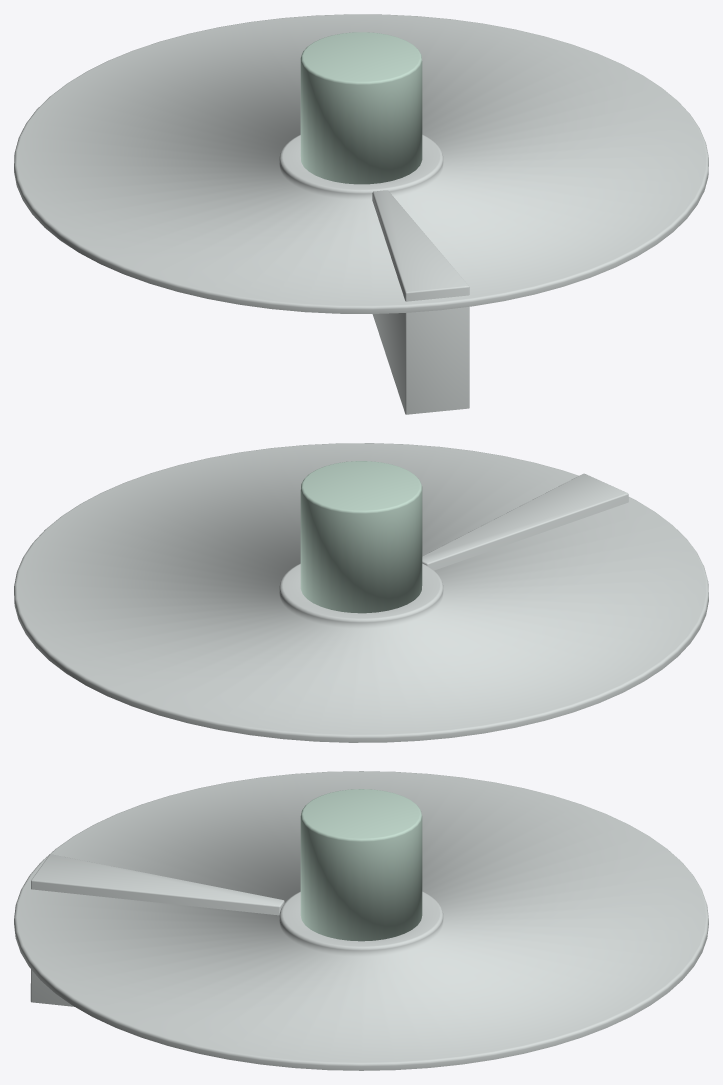
The picture shows the model from 3 angles, top to bottom: view 1: azimuth 30°, elevation 25°; view 2: azimuth 150°, elevation 25°; view 3: azimuth 270°, elevation 25°; orthographic projection.
Parts seen in each view (by area): view 1: plafform.001, pedastol.001, pannel; view 2: plafform.001, pedastol.001, pannel; view 3: plafform.001, pedastol.001, pannel.
Boxes of the visible parts, x1,y1,x2,y2 form: plafform.001: (14,14,708,313); pedastol.001: (300,32,422,184); pannel: (372,190,469,414); plafform.001: (14,443,708,742); pedastol.001: (300,461,422,613); pannel: (422,473,628,570); plafform.001: (14,771,708,1070); pedastol.001: (300,789,422,941); pannel: (30,854,284,1006).
Size of what is drawn, in the model's own units: 6.8 by 2.39 by 6.8.
